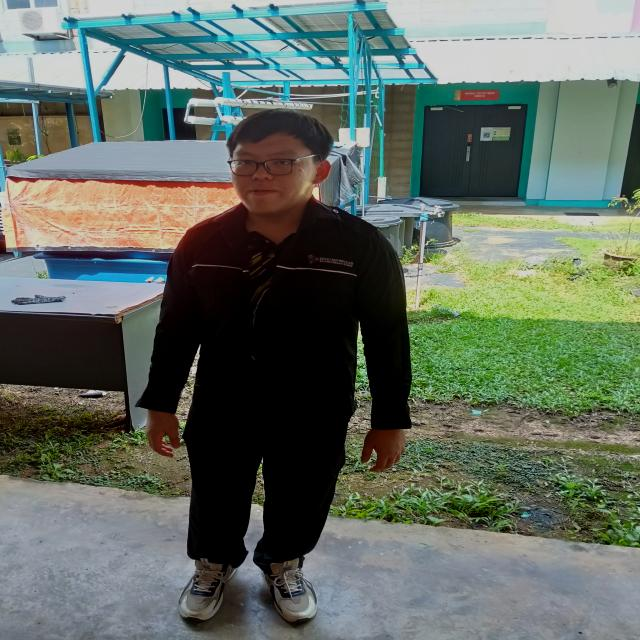person_with_labcoat: (139, 110, 411, 622)
